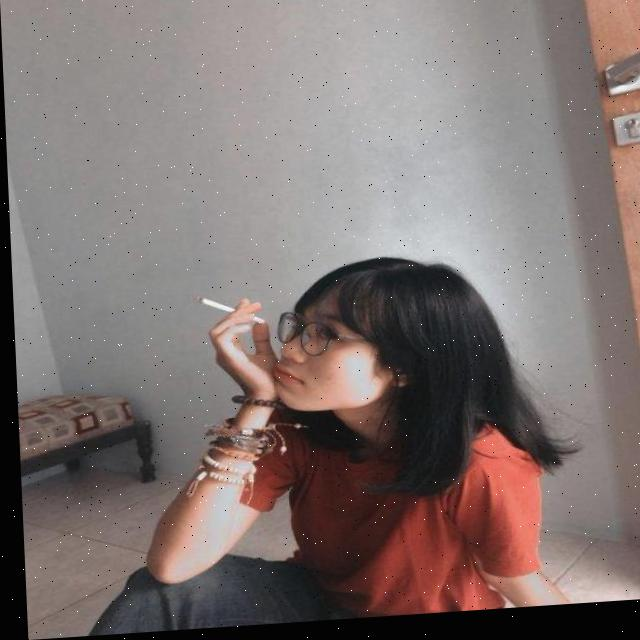cigarette: (194, 297, 261, 330)
